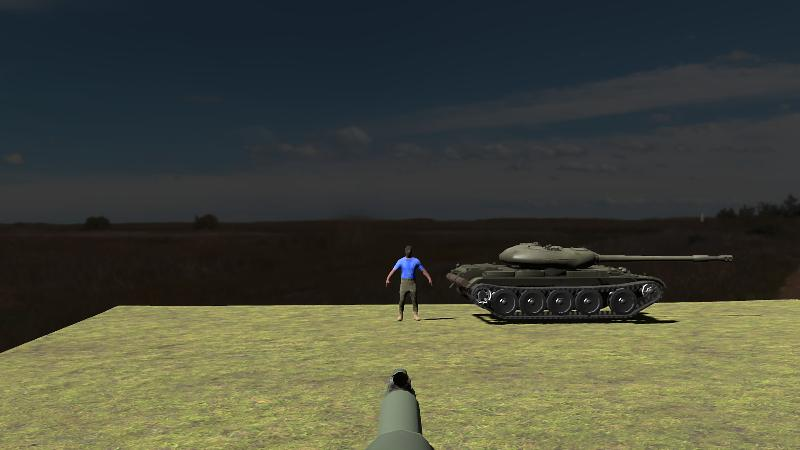Human: (386, 245, 432, 322)
Tank: (447, 241, 734, 320)
